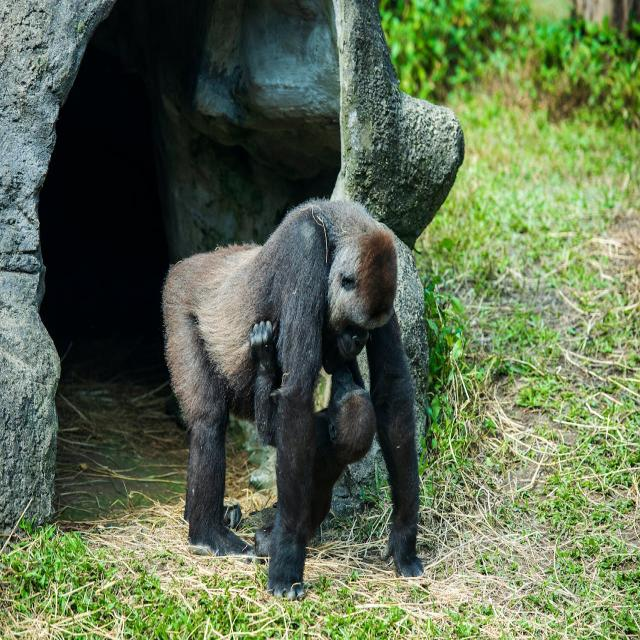Gorilla: (160, 197, 440, 602), (244, 322, 375, 555)
